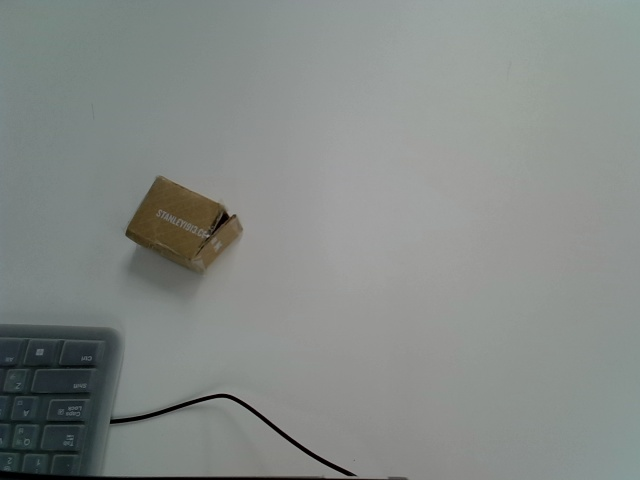defect: (123, 175, 245, 277)
